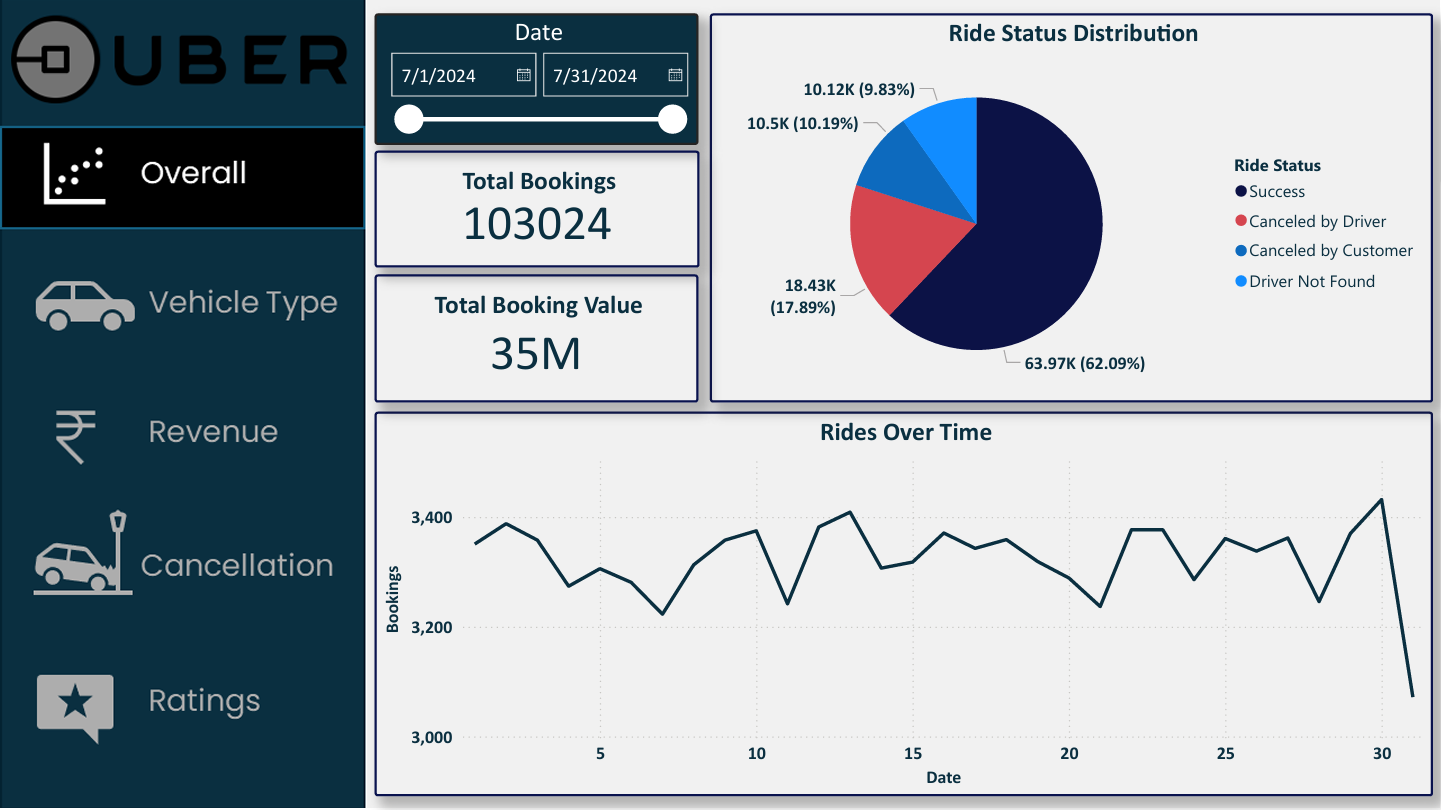

The page's visual inventory and layout, read from the dashboard file:
{"tool":"powerbi","page":{"name":"Ovarall","canvas":[1280,720],"ordinal":0},"visuals":[{"type":"lineChart","title":"Rides Over Time","fields":{"Category":["Bookings.Date.Variation.Date Hierarchy.Day"],"Y":["CountNonNull(Bookings.Booking_ID)"]},"box":[332.1,365,941.3,341.7],"z":0},{"type":"actionButton","box":[0,219.6,322.1,89.3],"z":1000},{"type":"actionButton","box":[0,340.2,322.1,89.3],"z":2000},{"type":"actionButton","box":[0,446.4,322.1,89.3],"z":3000},{"type":"actionButton","box":[0,579.1,322.1,89.3],"z":4000},{"type":"pieChart","title":"Ride Status Distribution","fields":{"Category":["Bookings.Booking_Status"],"Y":["CountNonNull(Bookings.Booking_ID)"]},"box":[629.8,11,643.6,345.8],"z":5000},{"type":"slicer","title":"Date ","fields":{"Values":["Bookings.Date"]},"box":[332.1,11,288.2,116.6],"z":6000},{"type":"card","title":"Total Bookings","fields":{"Values":["CountNonNull(Bookings.Booking_ID)"]},"box":[332.2,132.6,288.5,104.5],"z":7000},{"type":"card","title":"Total Booking Value","fields":{"Values":["Sum(Bookings.Booking_Value)"]},"box":[332.1,242.9,288.2,113.9],"z":8000}]}

Visuals, with their boxes in screenshot pixels (x1, y1, x2, y2), scaled from the page's 1280x720 canvas onto the 1441x810 screenshot:
"Rides Over Time" lineChart: bbox=(374, 411, 1434, 795)
actionButton: bbox=(0, 247, 363, 348)
actionButton: bbox=(0, 383, 363, 483)
actionButton: bbox=(0, 502, 363, 603)
actionButton: bbox=(0, 651, 363, 752)
"Ride Status Distribution" pieChart: bbox=(709, 12, 1434, 401)
"Date " slicer: bbox=(374, 12, 698, 144)
"Total Bookings" card: bbox=(374, 149, 699, 267)
"Total Booking Value" card: bbox=(374, 273, 698, 401)
